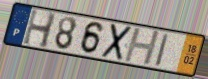6: (79, 21, 105, 56)
8: (54, 16, 78, 51)
H: (21, 7, 59, 50), (122, 27, 162, 66)
I: (153, 32, 171, 69)
X: (99, 22, 134, 63)
